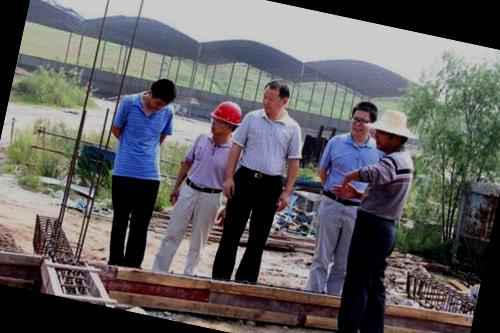no_helmet: (140, 73, 182, 116), (256, 75, 296, 120), (345, 97, 381, 141)
